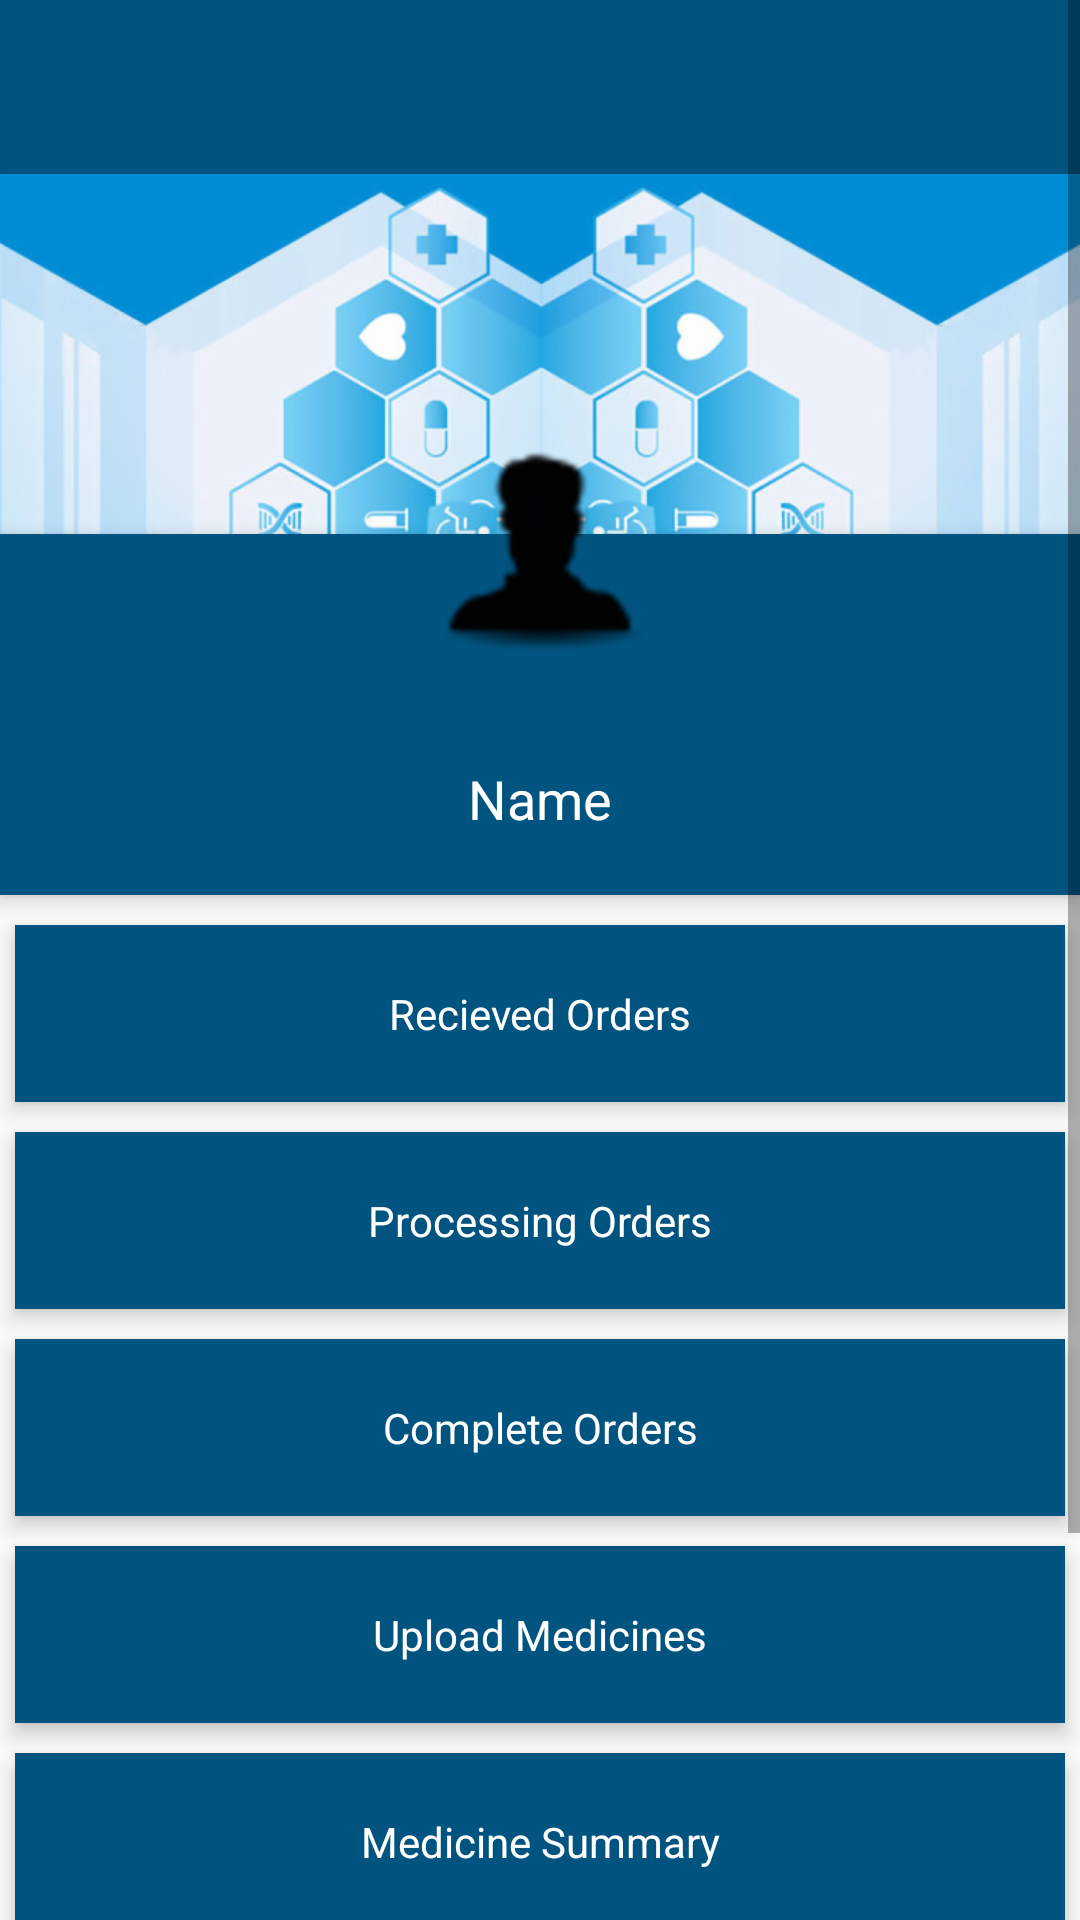

Named icons in this screenshot (1080px×1920px) and their centers, (x=x, y=y):
apps user: (x=540, y=535)
